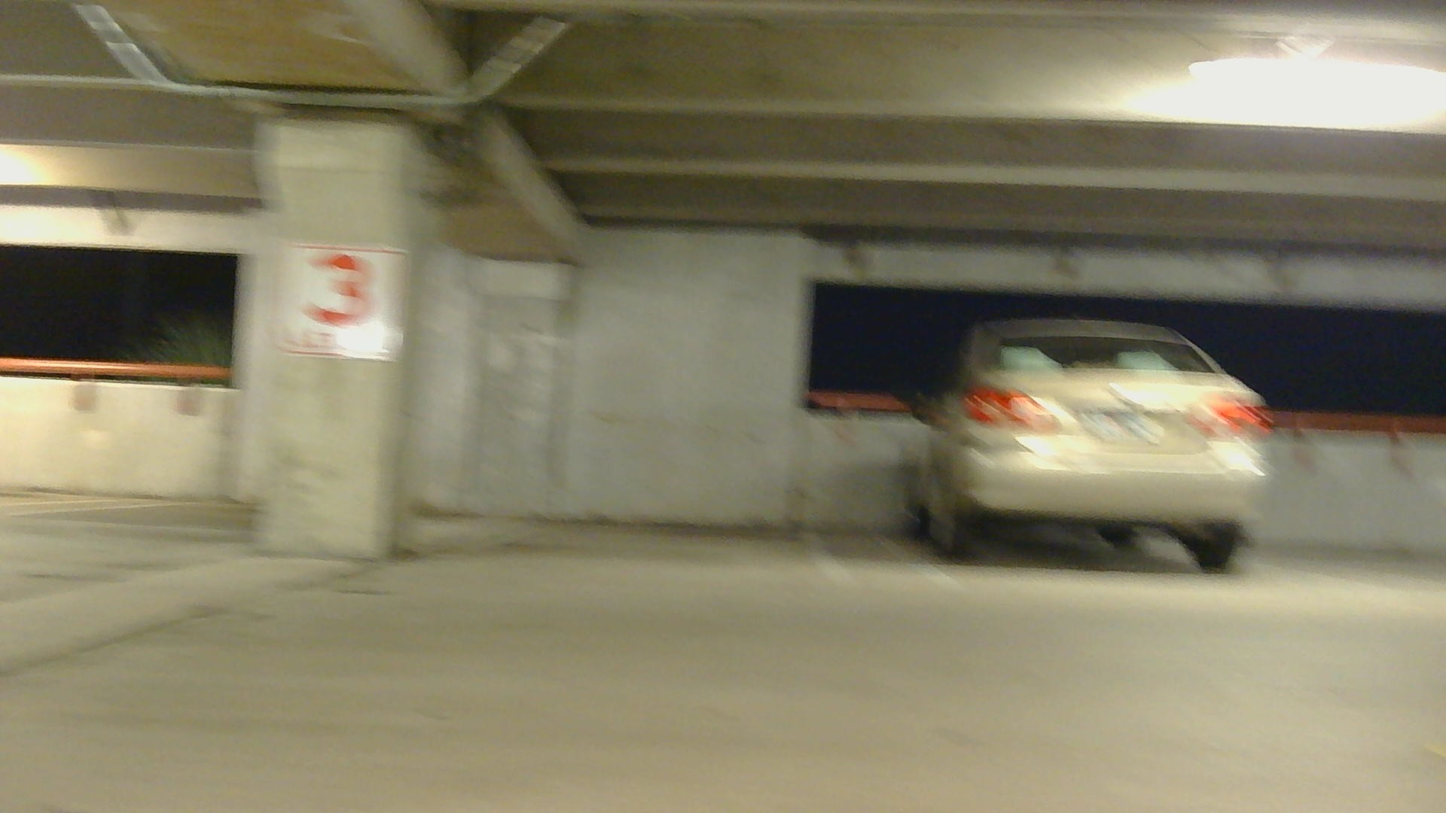empty_spot: (388, 442, 887, 583)
occupied_spot: (881, 308, 1280, 576)
